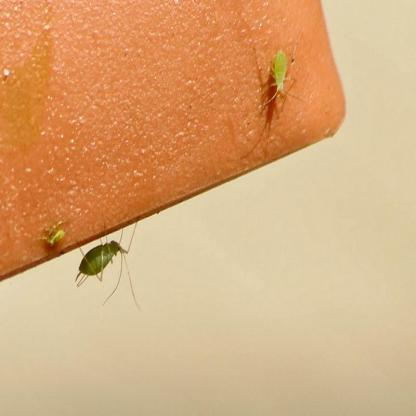aphid: (74, 217, 146, 300), (38, 212, 68, 250)
